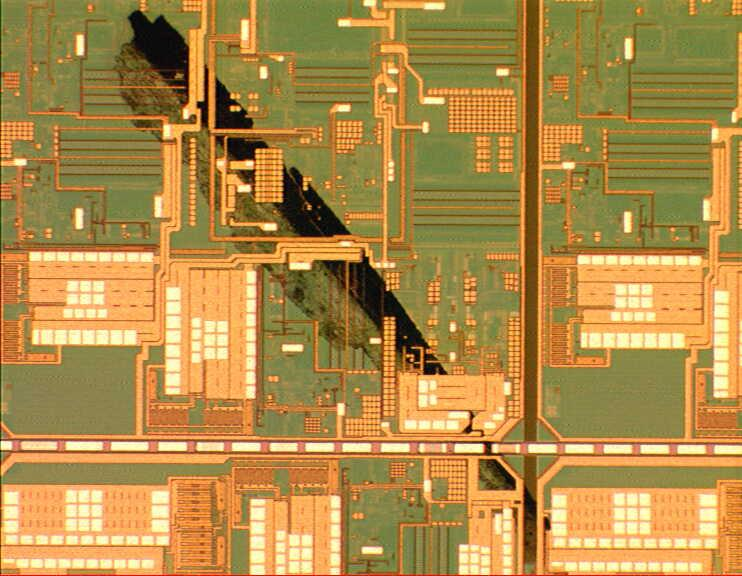SCRATCH: (114, 6, 598, 575)
